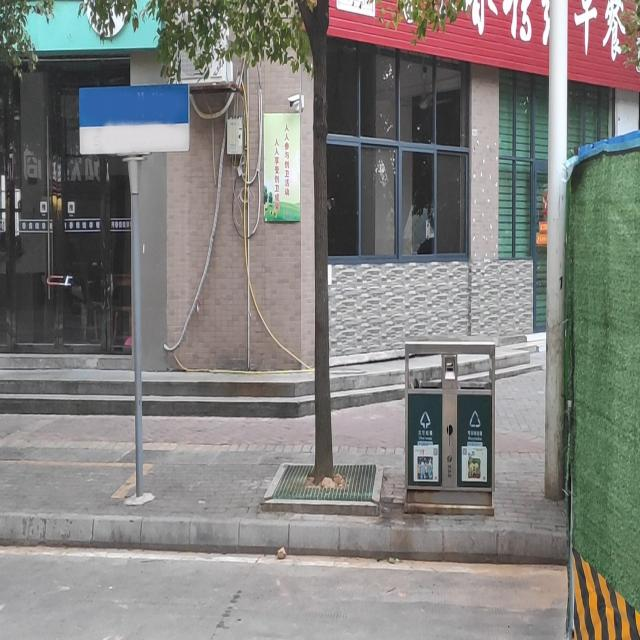ash bin: (401, 336, 496, 520)
pole: (540, 2, 574, 502), (128, 175, 145, 490)
